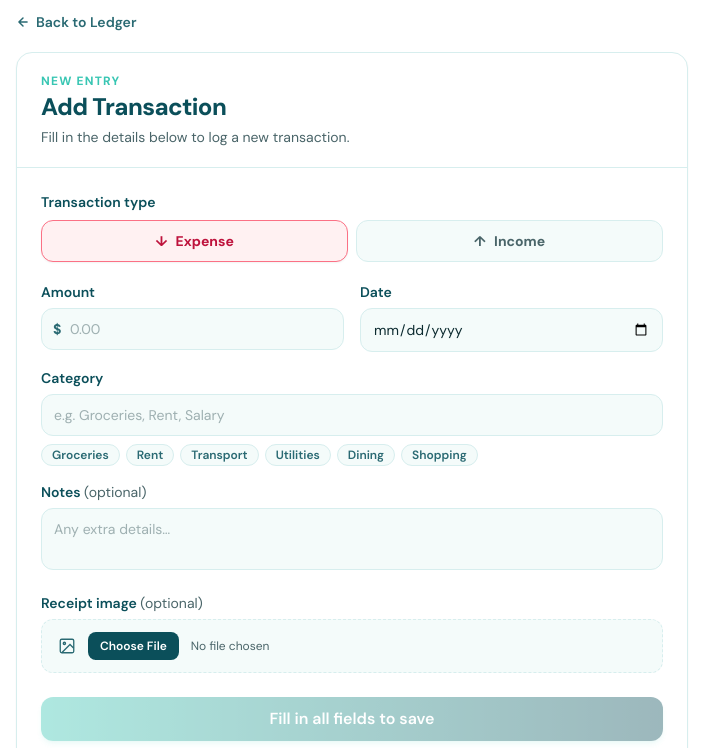
NewLedgerEntryPage › displays a friendly error on permission-denied (rules misconfigured)
This screenshot has width=705, height=748.
In the number field labelled "Amount": (192, 329) 41,308 -> 344,350, type "5"
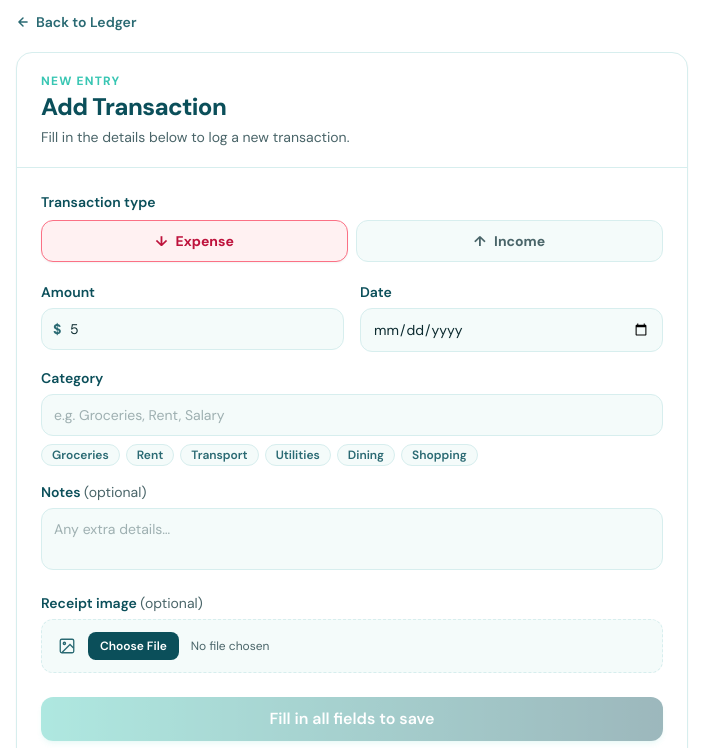
In the field labelled "Category": (352, 415) 41,394 -> 663,436, type "x"
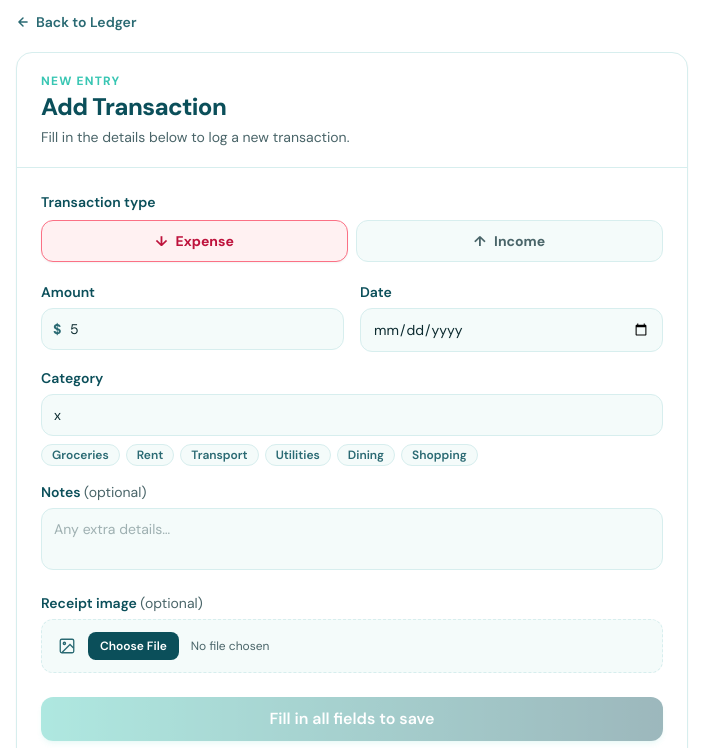
In the date field labelled "Date": (512, 330) 360,308 -> 663,352, type "2025-04-01"
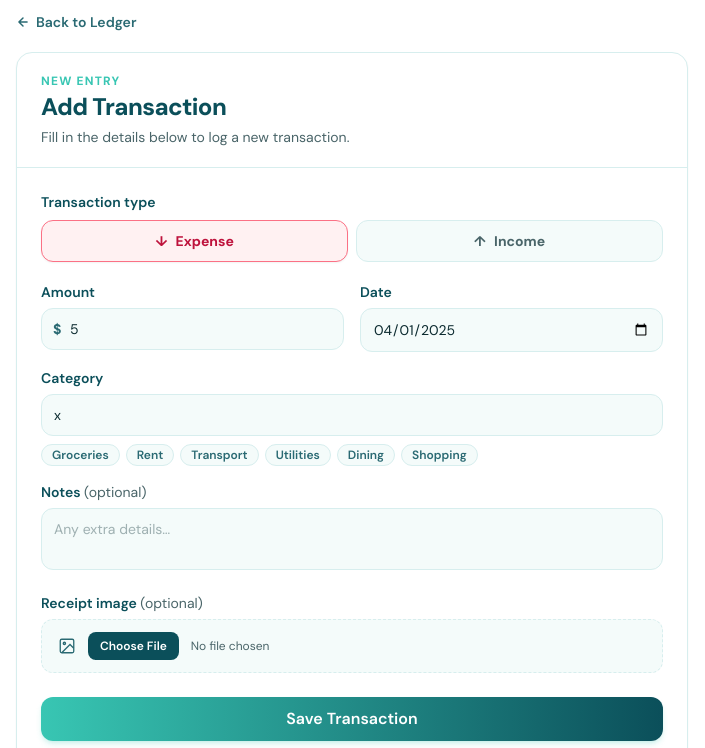
Click the button "Save Transaction": (352, 719) 41,697 -> 663,741
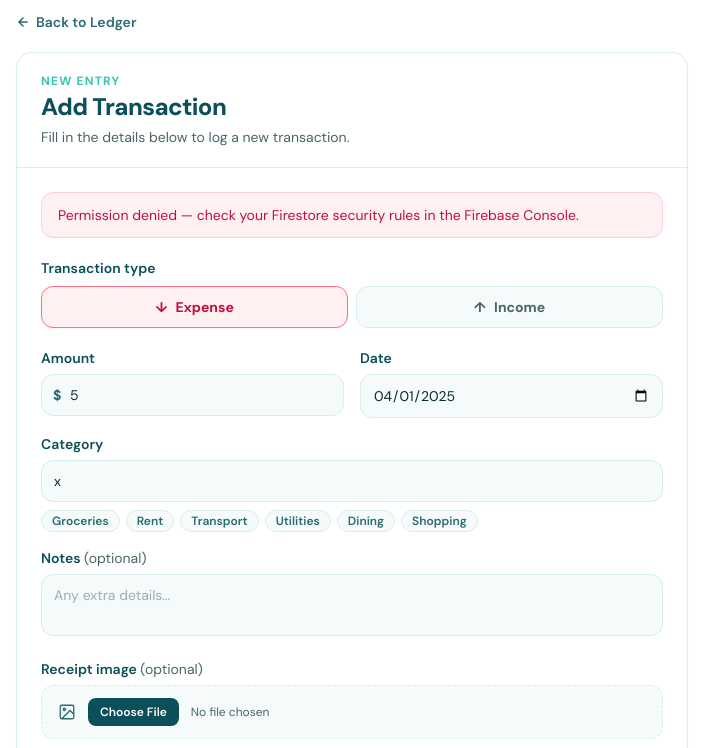
Result: the text "Permission denied" is shown at 58,206 -> 579,224
